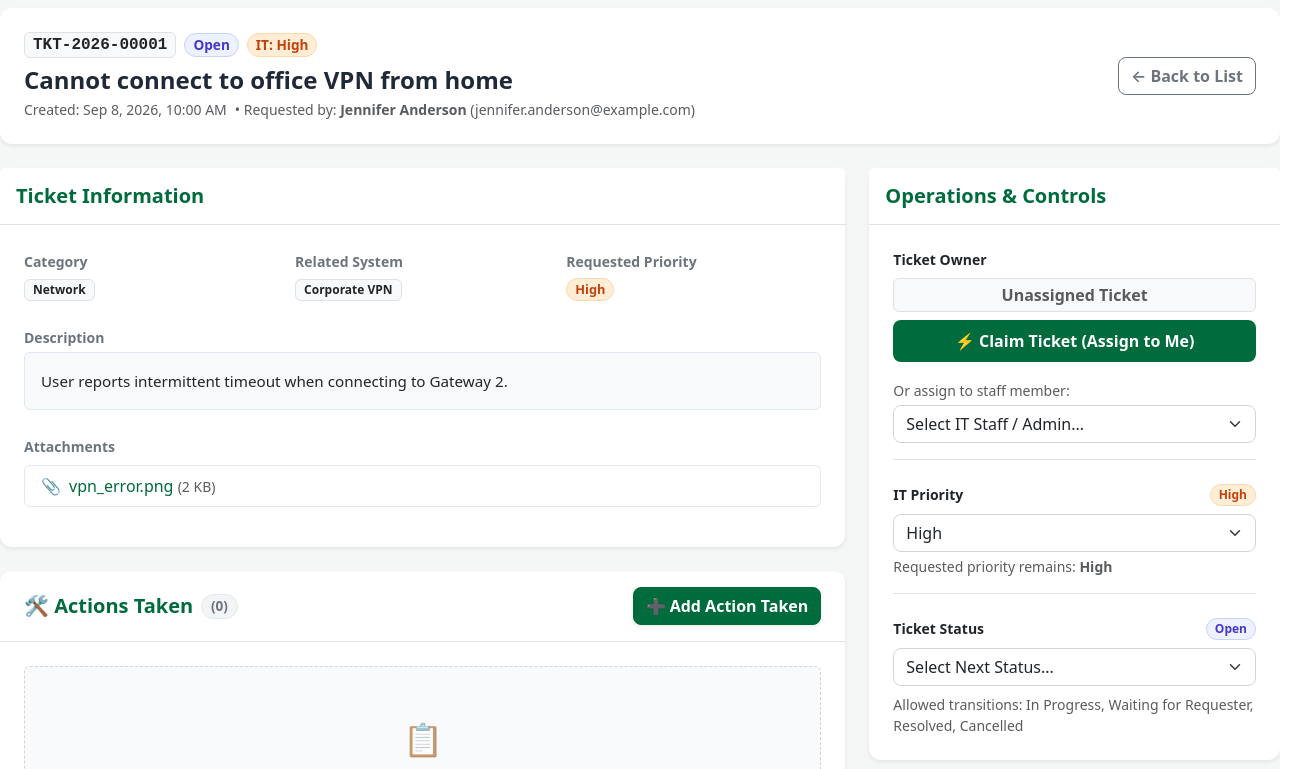
UI-04: Staff Ticket Detail & Operations Component Tests › UI-04: clicking Claim Ticket claims ownership for current user
Click the button "⚡ Claim Ticket (Assign to Me)" at (1075, 341), box left=893, top=320, right=1256, bottom=362
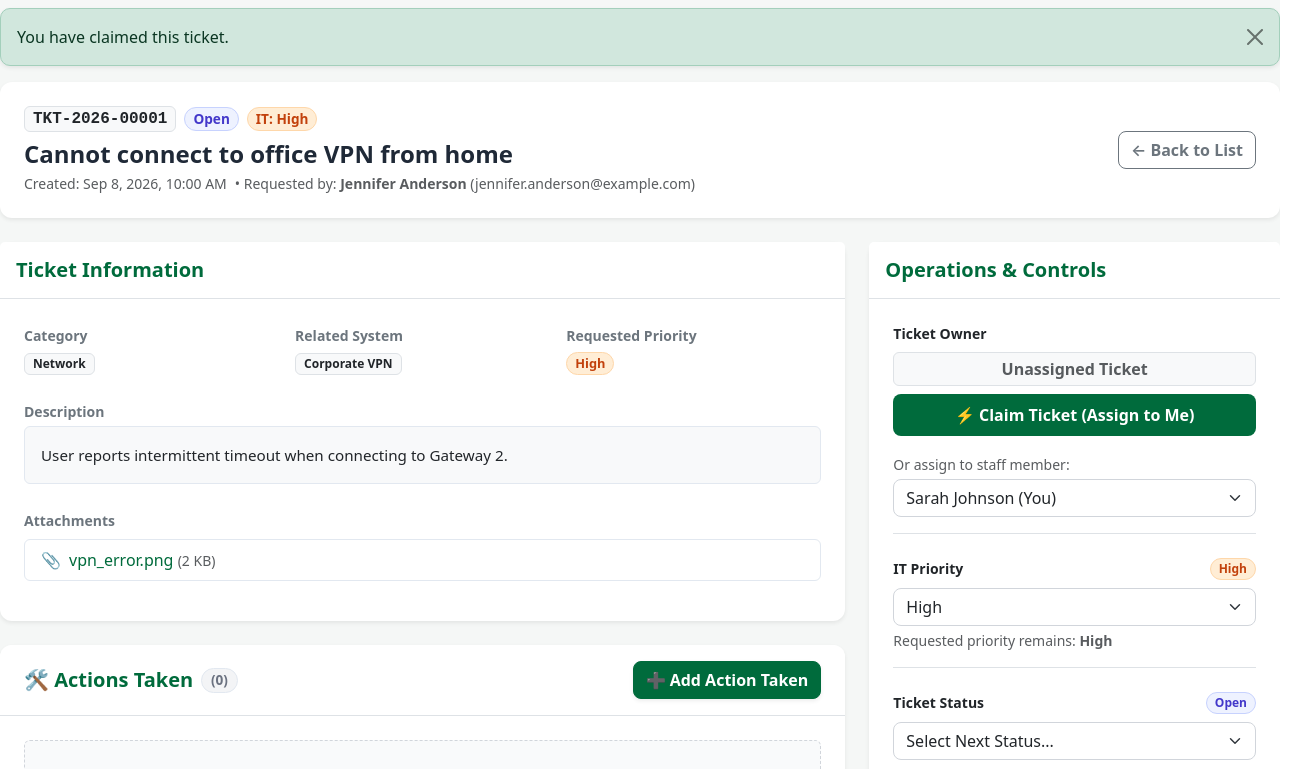
Now the text "You have claimed this ticket." is shown, box left=17, top=25, right=229, bottom=49
